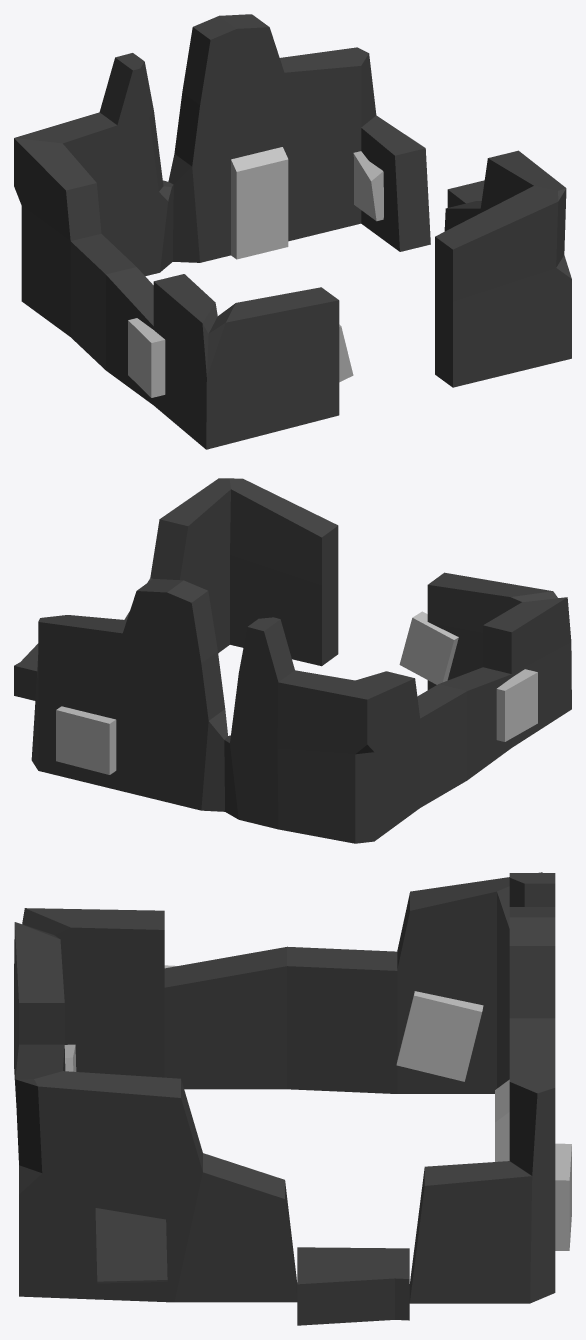
The model's file is ruinedBuilding1.glb.
3 views of the same model, one above another, from view 1: azimuth 30°, elevation 25°; view 2: azimuth 150°, elevation 25°; view 3: azimuth 270°, elevation 25° (orthographic). The views are drawn at different scales.
Parts seen in each view (by area): view 1: ruinedBuilding1; view 2: ruinedBuilding1; view 3: ruinedBuilding1.
Boxes of the visible parts, box(x1,y1,x2,y2) form: ruinedBuilding1: box(14, 14, 571, 449); ruinedBuilding1: box(14, 478, 571, 843); ruinedBuilding1: box(14, 872, 571, 1325).
Bounding box in the file's own units: 1.74 × 0.8125 × 1.42.
Materials: 1 (1 with a texture image).
